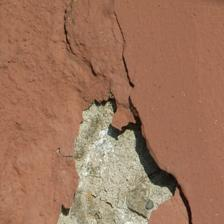Crack: (2, 0, 130, 68), (42, 46, 151, 93)
